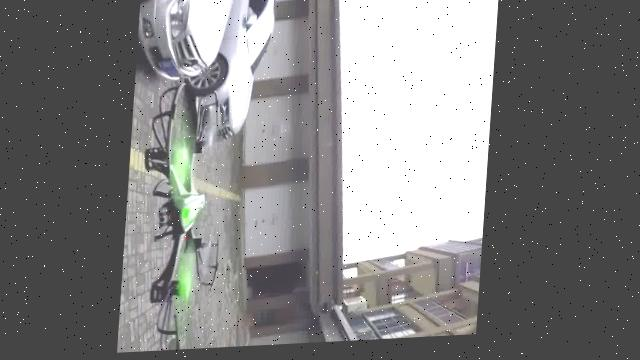drone: (123, 73, 243, 354)
